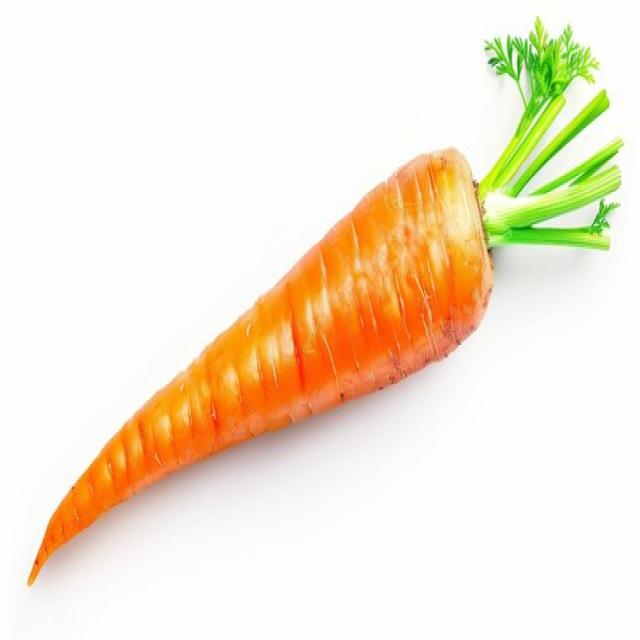Carrot: (26, 16, 624, 587)
